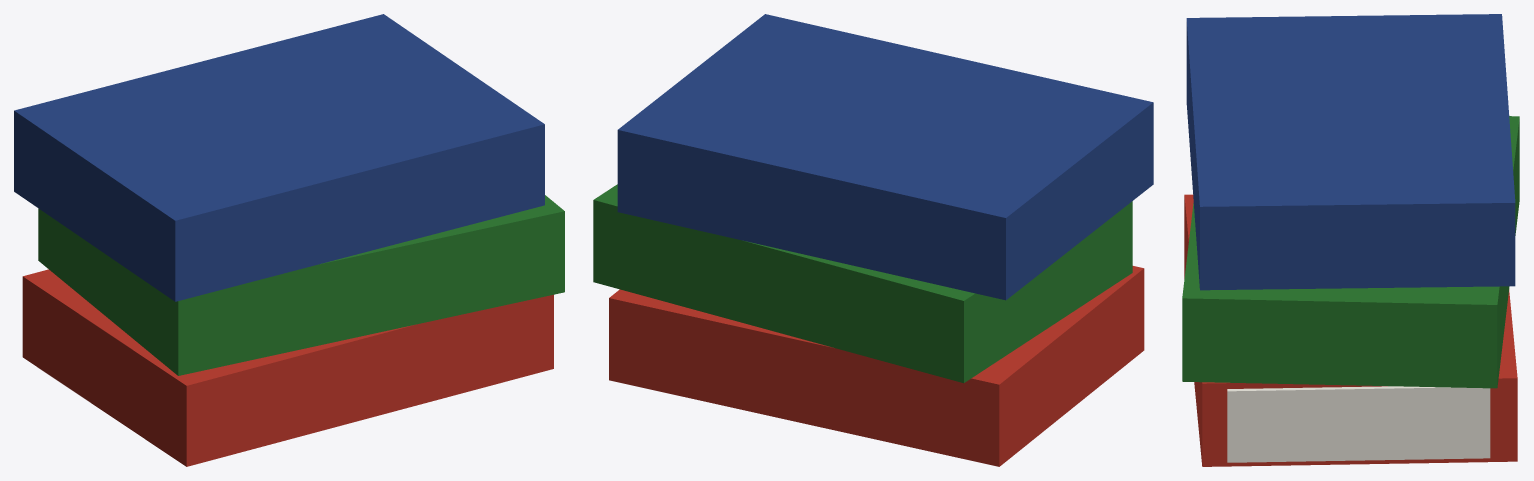
File: item_books.fbx
The picture shows the model from 3 angles, left to right: view 1: azimuth 30°, elevation 25°; view 2: azimuth 150°, elevation 25°; view 3: azimuth 270°, elevation 25°; orthographic projection. The views are drawn at different scales.
Visible parts, largest first — view 1: M__item_books; view 2: M__item_books; view 3: M__item_books.
Boxes of the visible parts, left/top/right/bottom form: M__item_books: left=14, top=14, right=564, bottom=466; M__item_books: left=593, top=14, right=1153, bottom=466; M__item_books: left=1182, top=14, right=1519, bottom=466.
Bounding box in the file's own units: 0.1847 × 0.107 × 0.1283.
